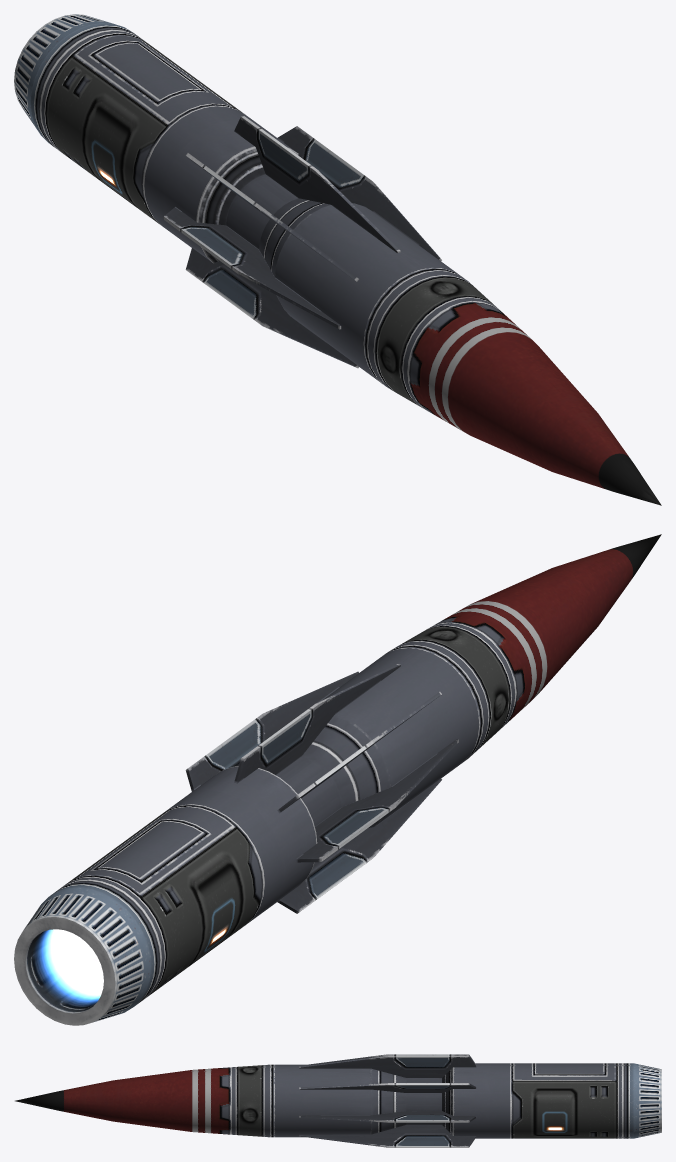
File: StandardMissileSmall.fbx
3 renders of one model, top to bottom at view 1: azimuth 30°, elevation 25°; view 2: azimuth 150°, elevation 25°; view 3: azimuth 270°, elevation 25°, orthographic. The views are drawn at different scales.
Visible parts, largest first — view 1: StandardMissileSmall; view 2: StandardMissileSmall; view 3: StandardMissileSmall.
Part boxes in pixels (x1,y1,x2,y2): StandardMissileSmall: (14, 14, 661, 505); StandardMissileSmall: (14, 534, 661, 1025); StandardMissileSmall: (15, 1054, 661, 1147).
Bounding box in the file's own units: 1.11 × 1.11 × 7.3.
